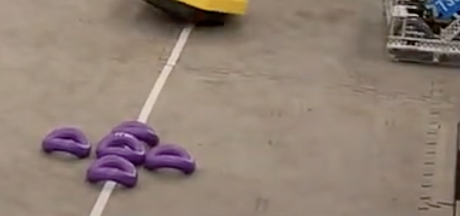ring: (86, 154, 138, 189), (144, 142, 196, 175), (42, 126, 92, 159), (96, 131, 147, 162), (112, 120, 160, 145)
